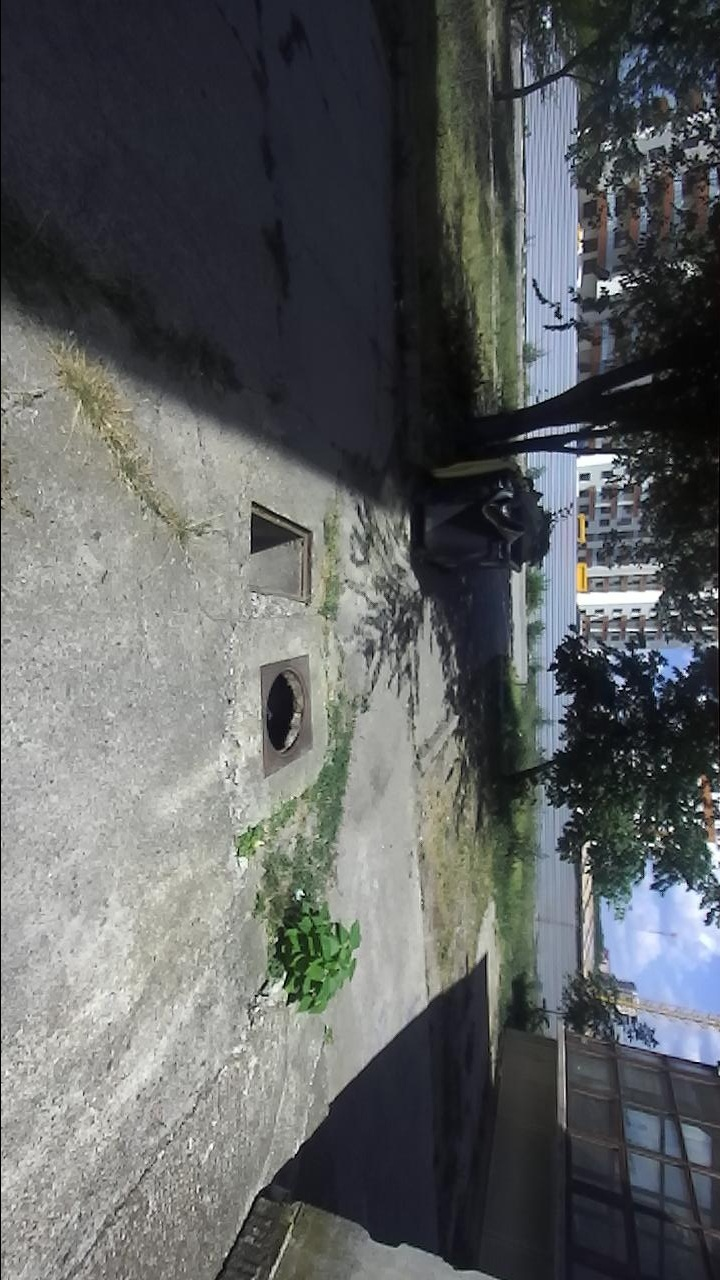drain: (246, 493, 316, 606), (266, 663, 312, 758)
